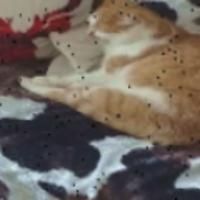asleep: (12, 0, 200, 148)
